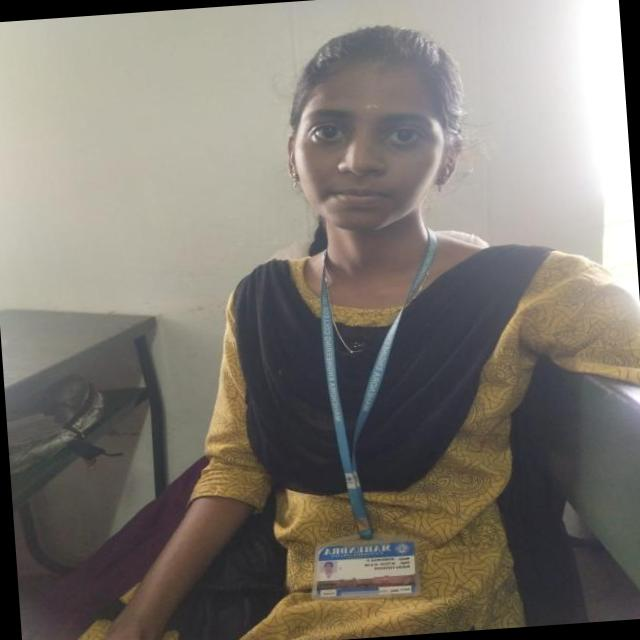id_card: (285, 224, 462, 606)
